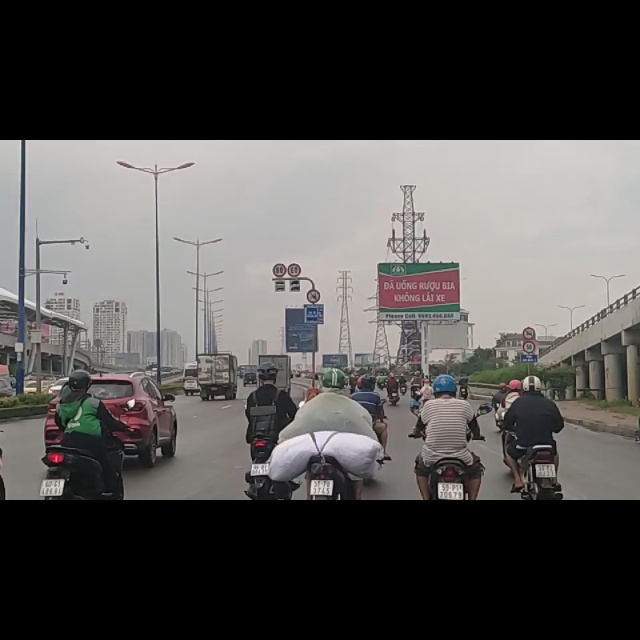bien_cam: (305, 259, 321, 290)
